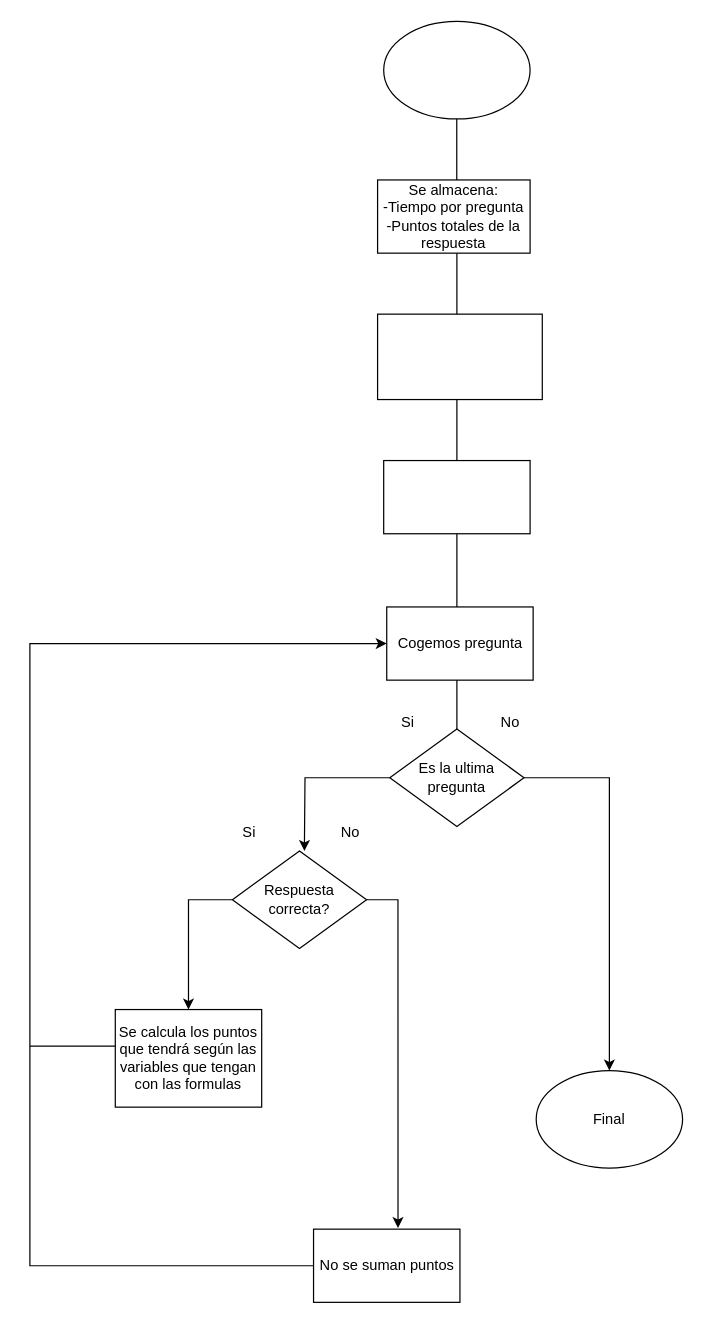
Image size: 704x1324. Some labels were removed from this diagram. Each missing label, with the centre of its shape:
Empezamos concurso: [456,496]
Inici: [456,69]
Se calcula: -Puntos por ganar y por tiempo -Puntos restantes por segundo: [459,356]
